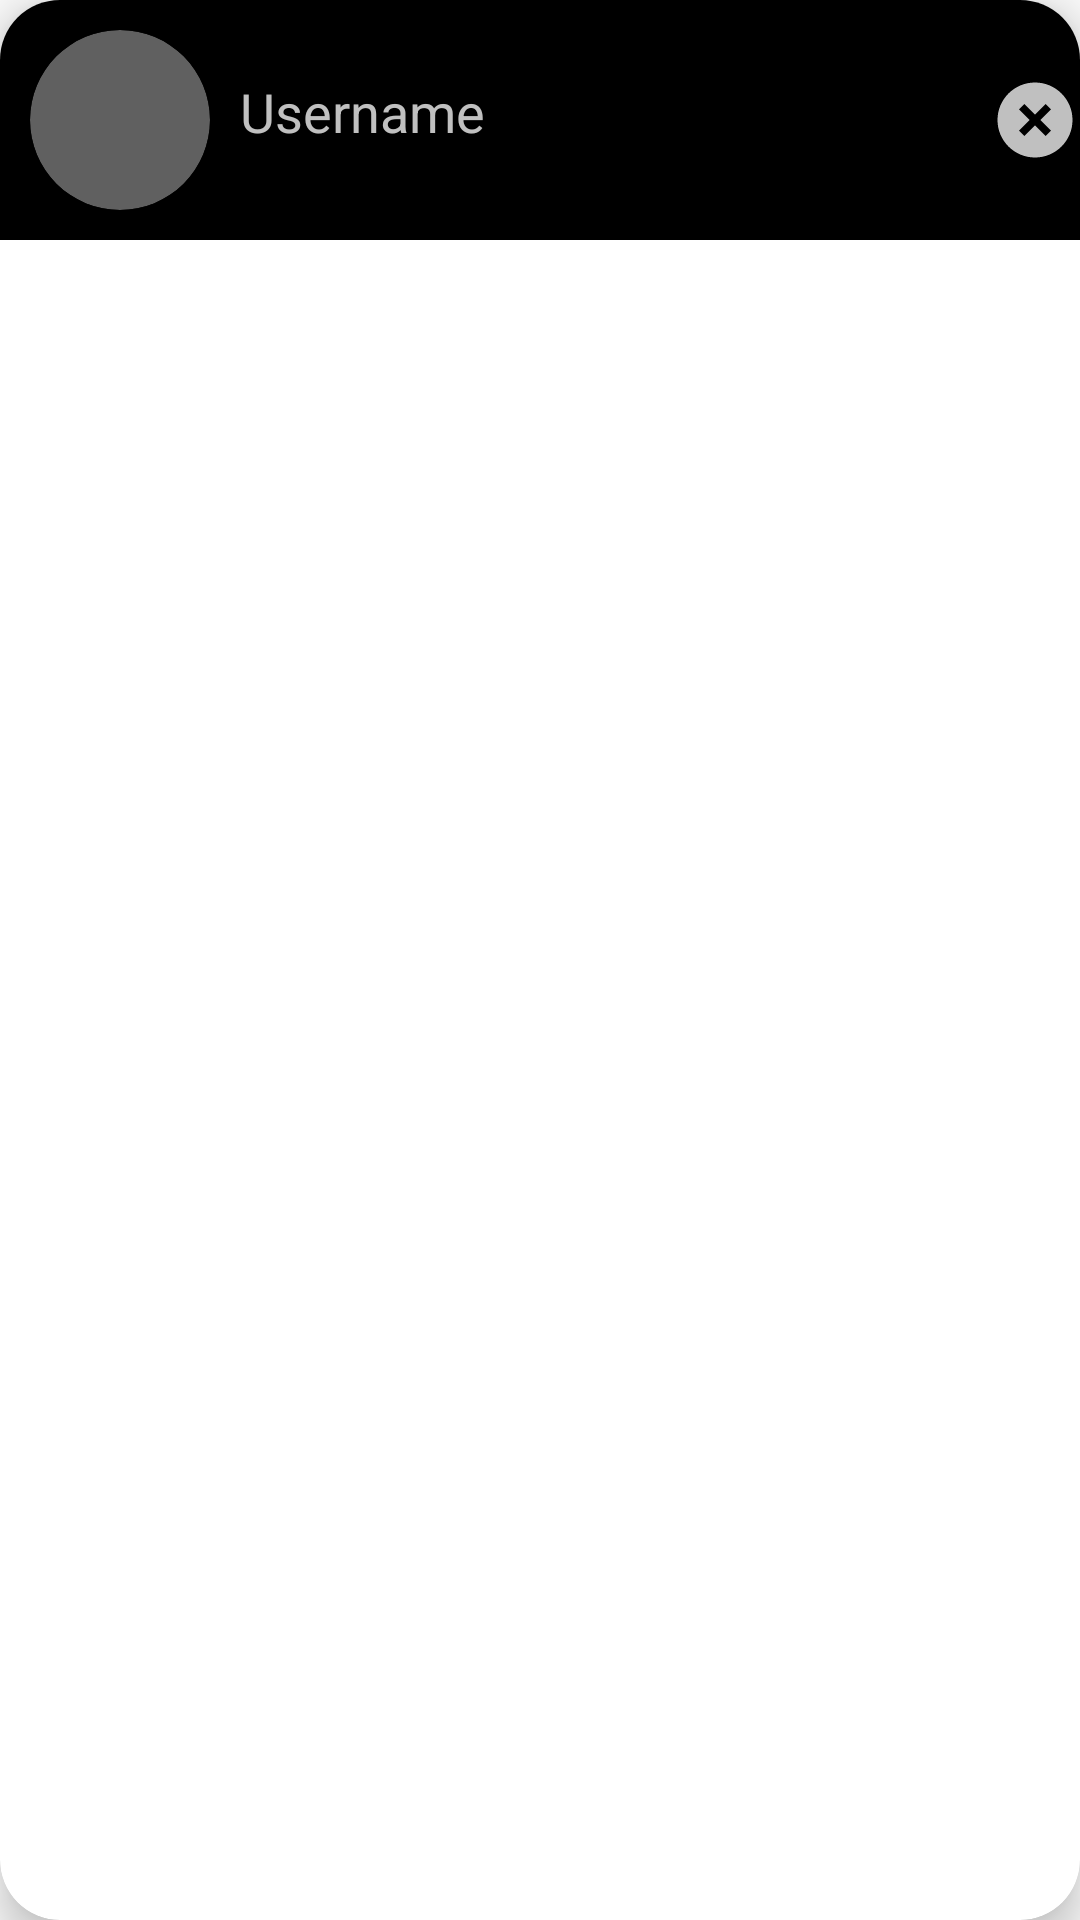

Icons on this 1080px×1920px Android screen, each with the point to tap as point (x, y):
close: point (1035, 120)
